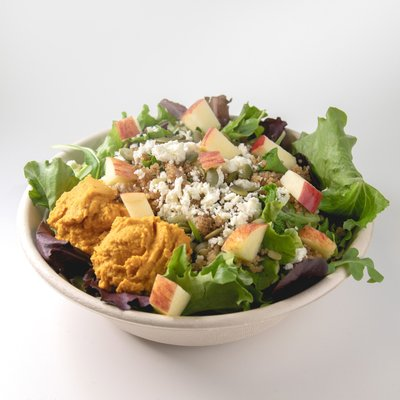curry: (290, 105, 390, 238)
sushi: (19, 93, 395, 385)
